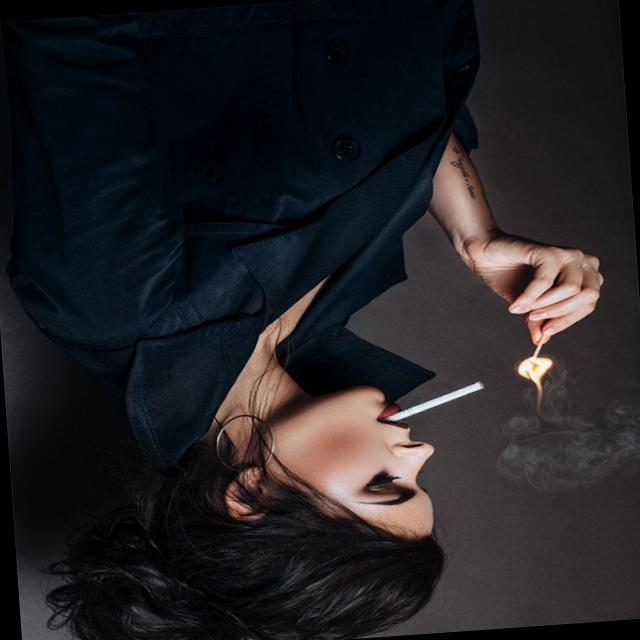smoke: (376, 377, 490, 426)
